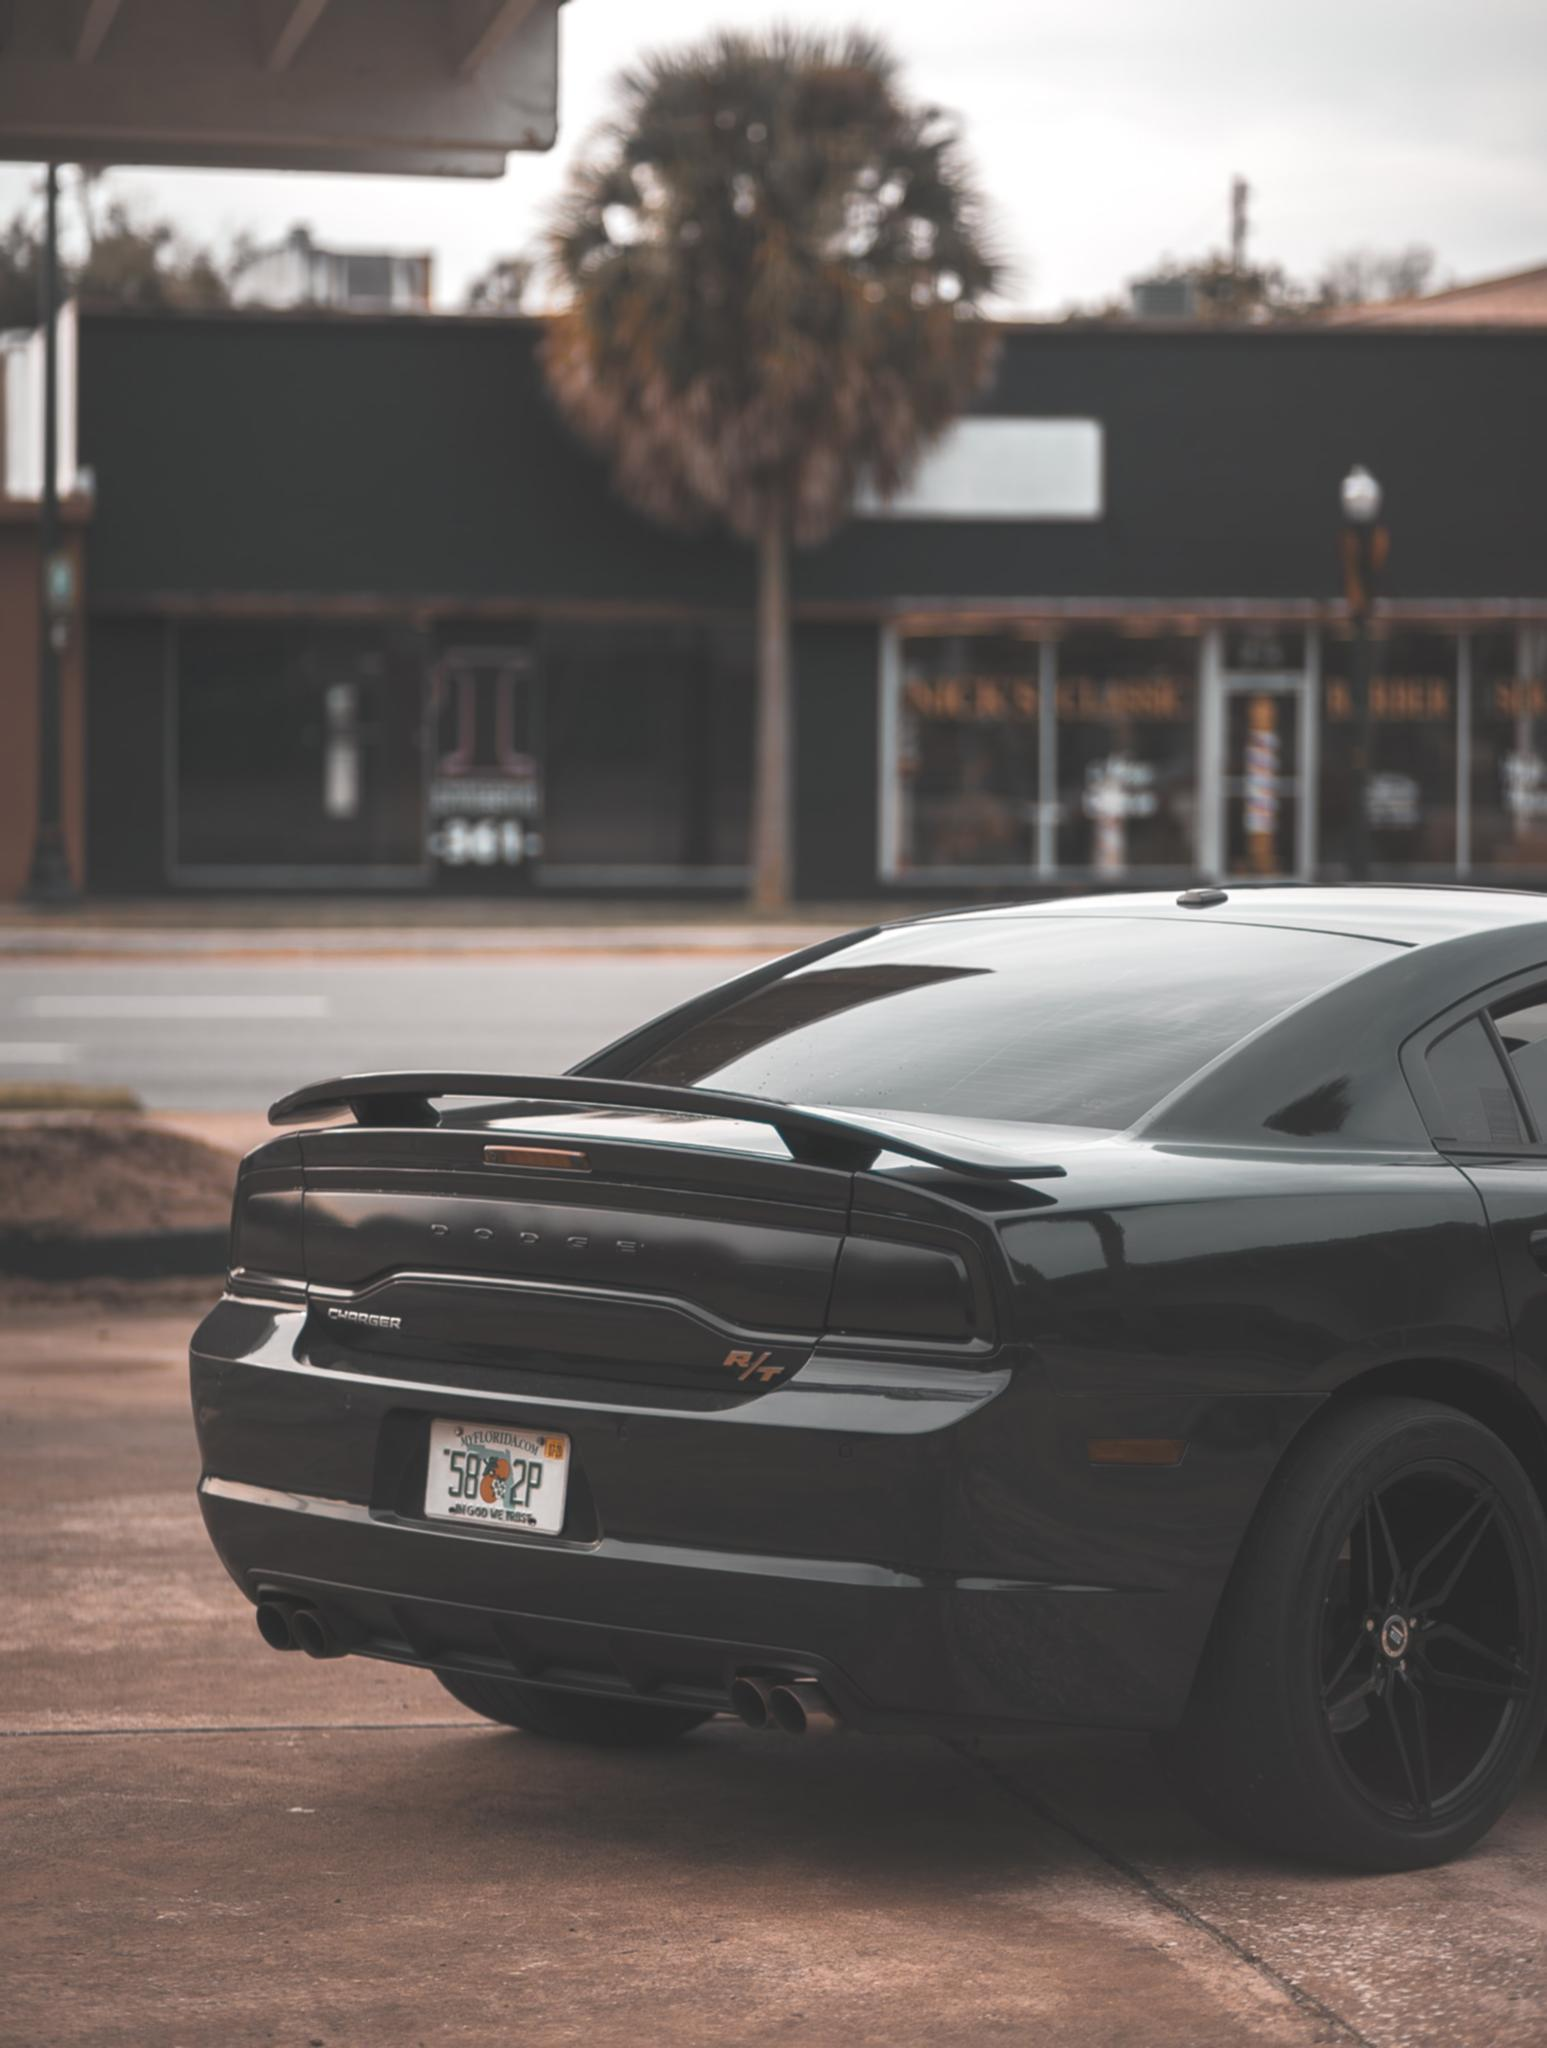dodge: (413, 1200, 656, 1279)
